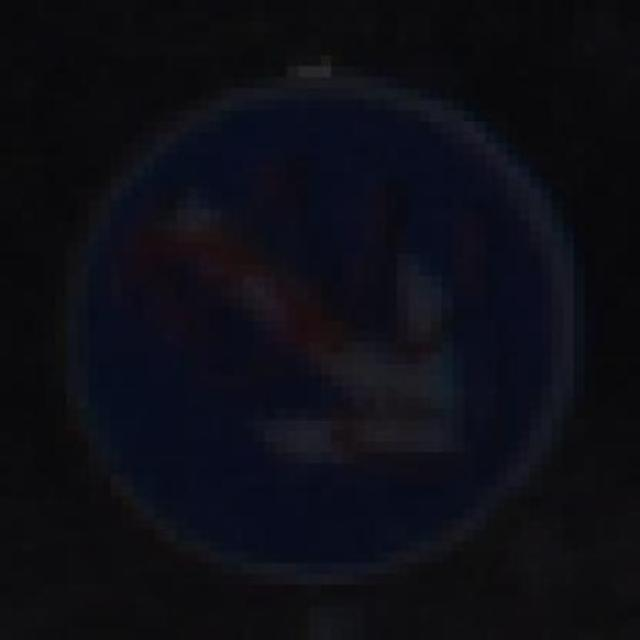Keep-Right: (44, 44, 596, 607)
